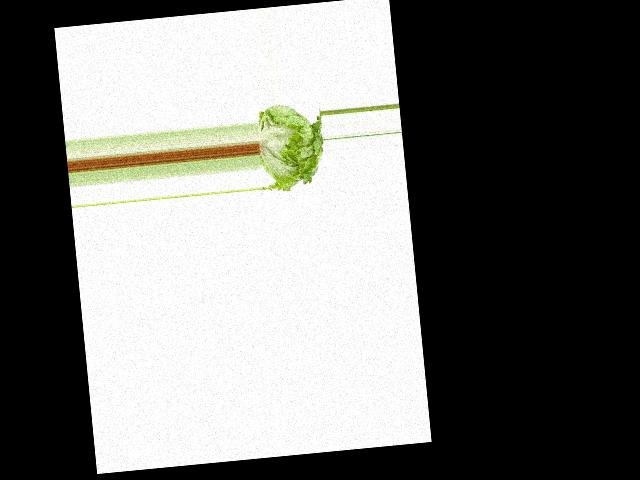lettuce: (254, 98, 327, 196)
